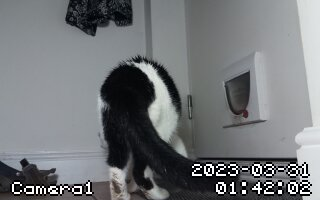bad: (95, 57, 199, 198)
